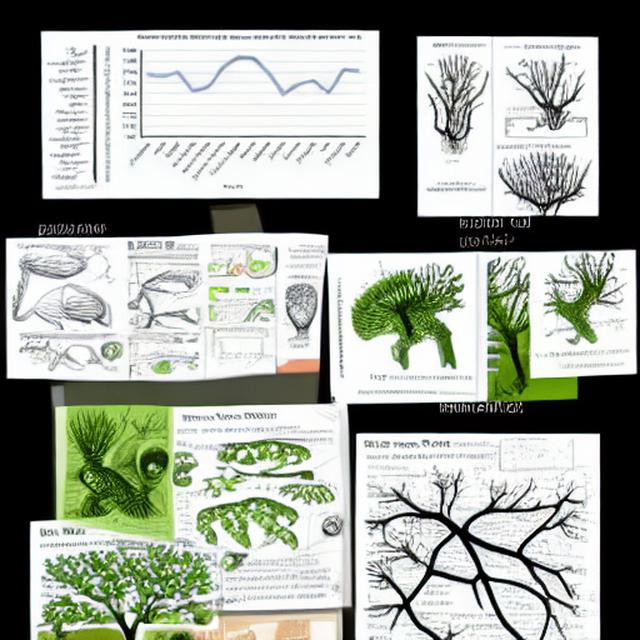Graph: (98, 32, 376, 195), (490, 437, 557, 477), (214, 335, 271, 371)
